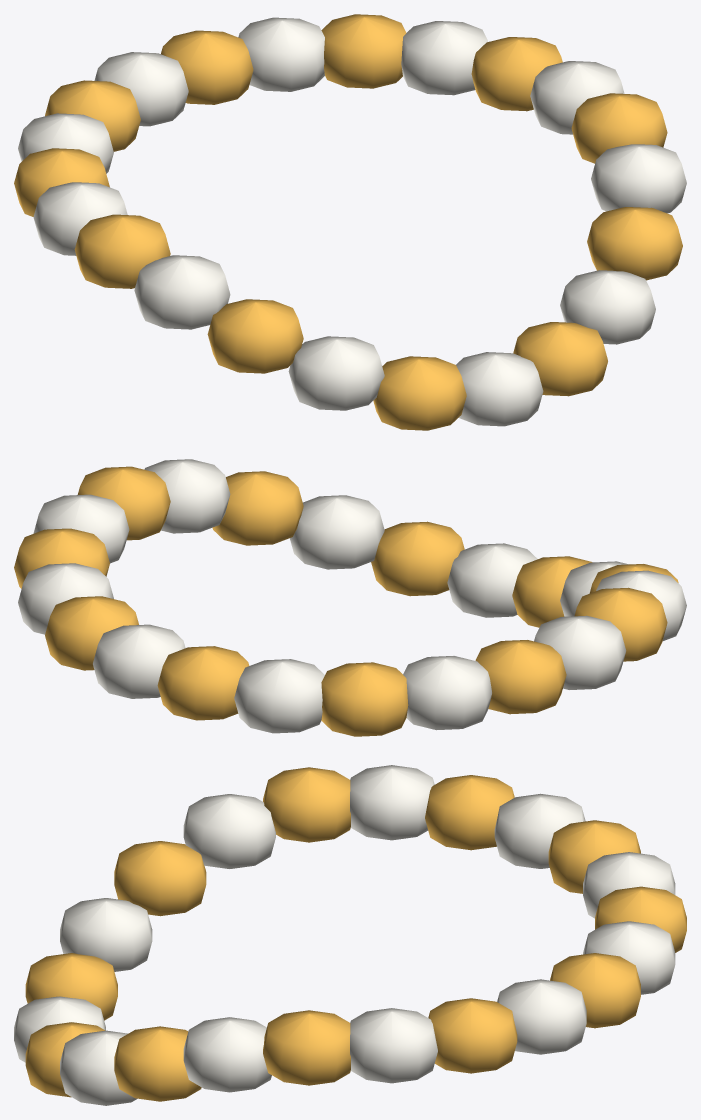
File: acc-garland.glb
3 renders of one model, top to bottom at view 1: azimuth 30°, elevation 25°; view 2: azimuth 150°, elevation 25°; view 3: azimuth 270°, elevation 25°, orthographic.
Visible parts, largest first — view 1: bloom19, bloom20, bloom18, bloom21, bloom3, bloom4, bloom2, bloom9, bloom17, bloom0, bloom10, bloom1 (+10 smaller); view 2: bloom12, bloom13, bloom2, bloom14, bloom1, bloom11, bloom15, bloom3, bloom10, bloom16, bloom0, bloom9 (+10 smaller); view 3: bloom5, bloom6, bloom19, bloom18, bloom17, bloom7, bloom4, bloom16, bloom20, bloom8, bloom15, bloom3 (+10 smaller).
Boxes of the visible parts, left/top/right/bottom form: bloom19: left=207, top=299, right=303, bottom=373; bloom20: left=288, top=336, right=384, bottom=410; bloom18: left=134, top=255, right=230, bottom=329; bloom21: left=373, top=356, right=466, bottom=430; bloom3: left=587, top=207, right=682, bottom=280; bloom4: left=591, top=144, right=686, bottom=213; bloom2: left=560, top=270, right=655, bottom=344; bloom9: left=321, top=14, right=406, bottom=88; bloom17: left=74, top=214, right=170, bottom=288; bloom0: left=456, top=352, right=543, bottom=426; bloom10: left=238, top=17, right=324, bottom=91; bloom1: left=513, top=322, right=607, bottom=396; bloom12: left=234, top=659, right=324, bottom=733; bloom13: left=321, top=662, right=408, bottom=736; bloom2: left=289, top=495, right=384, bottom=569; bloom14: left=403, top=656, right=491, bottom=730; bloom1: left=371, top=521, right=464, bottom=596; bloom11: left=157, top=646, right=249, bottom=720; bloom15: left=475, top=640, right=566, bottom=714; bloom3: left=212, top=471, right=303, bottom=545; bloom10: left=93, top=624, right=185, bottom=698; bloom16: left=534, top=615, right=626, bottom=689; bloom0: left=447, top=543, right=537, bottom=617; bloom9: left=45, top=596, right=138, bottom=670; bloom5: left=263, top=1010, right=350, bottom=1085; bloom6: left=350, top=1008, right=437, bottom=1083; bloom19: left=114, top=841, right=206, bottom=916; bloom18: left=183, top=794, right=275, bottom=868; bloom17: left=263, top=767, right=350, bottom=842; bloom7: left=428, top=998, right=517, bottom=1073; bloom4: left=183, top=1017, right=271, bottom=1092; bloom16: left=350, top=765, right=434, bottom=840; bloom20: left=60, top=898, right=152, bottom=971; bloom8: left=497, top=979, right=586, bottom=1054; bloom15: left=425, top=775, right=514, bottom=850; bloom3: left=114, top=1026, right=201, bottom=1101.
Bounding box in the file's own units: 2.5 × 0.73 × 2.5.
